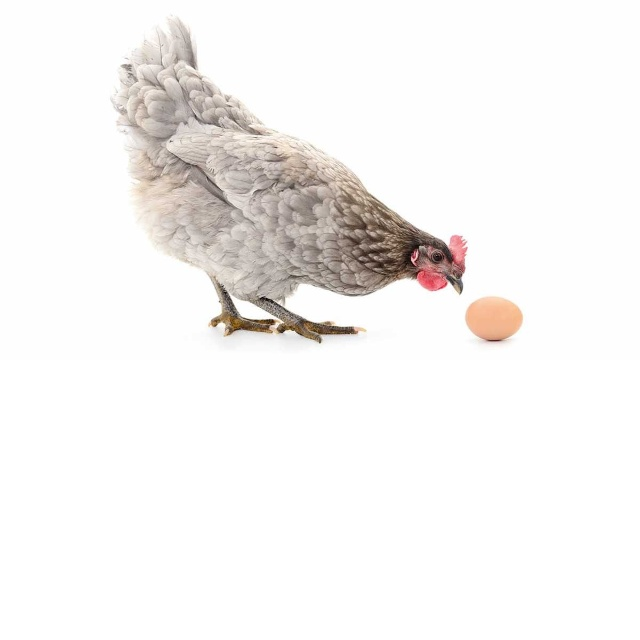trung_ga: (462, 295, 526, 343)
